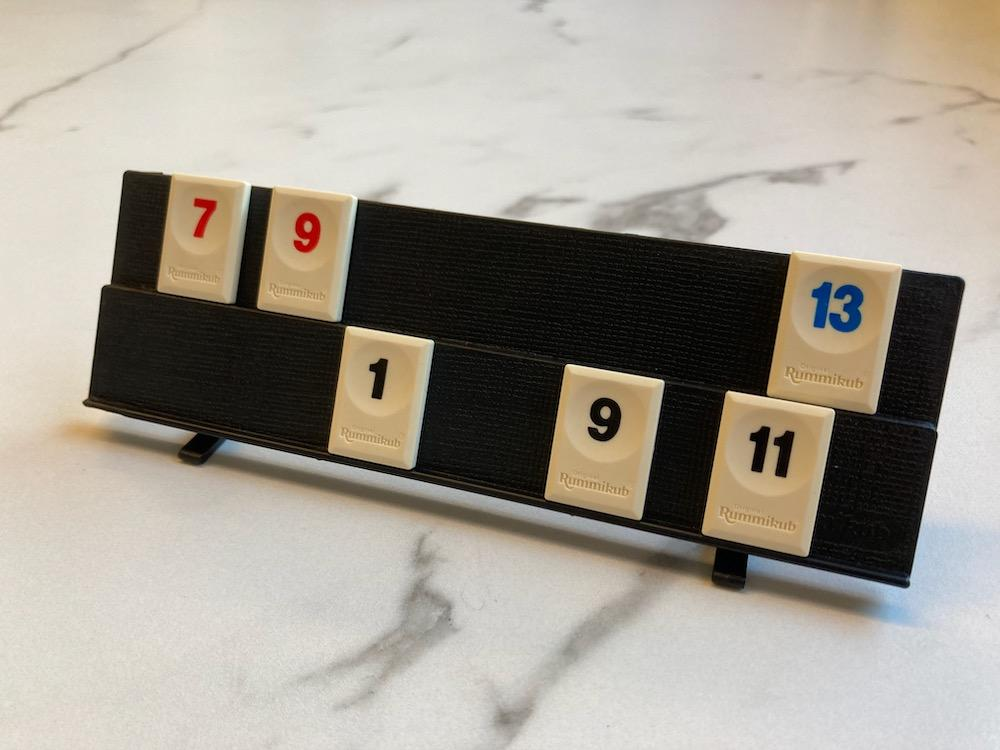black_1: (330, 326, 434, 469)
black_11: (703, 391, 836, 557)
black_9: (547, 365, 664, 520)
blue_13: (770, 252, 902, 414)
red_7: (156, 174, 250, 303)
red_9: (259, 188, 357, 322)
